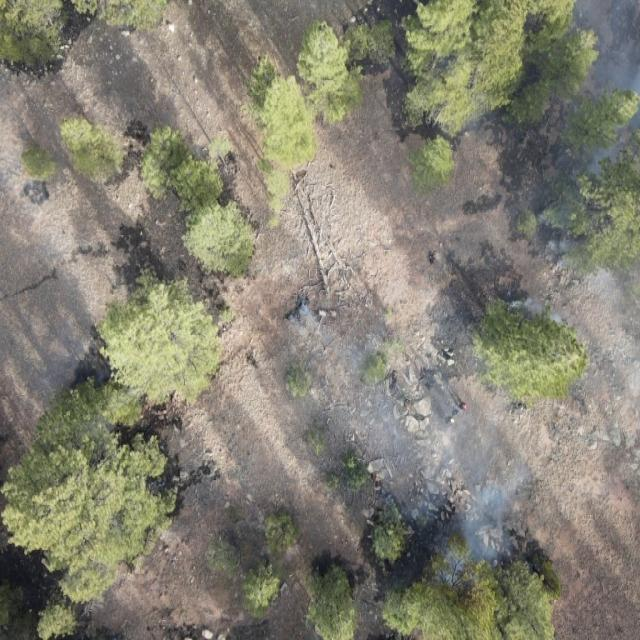smoke: (272, 286, 544, 594), (524, 0, 639, 274)
